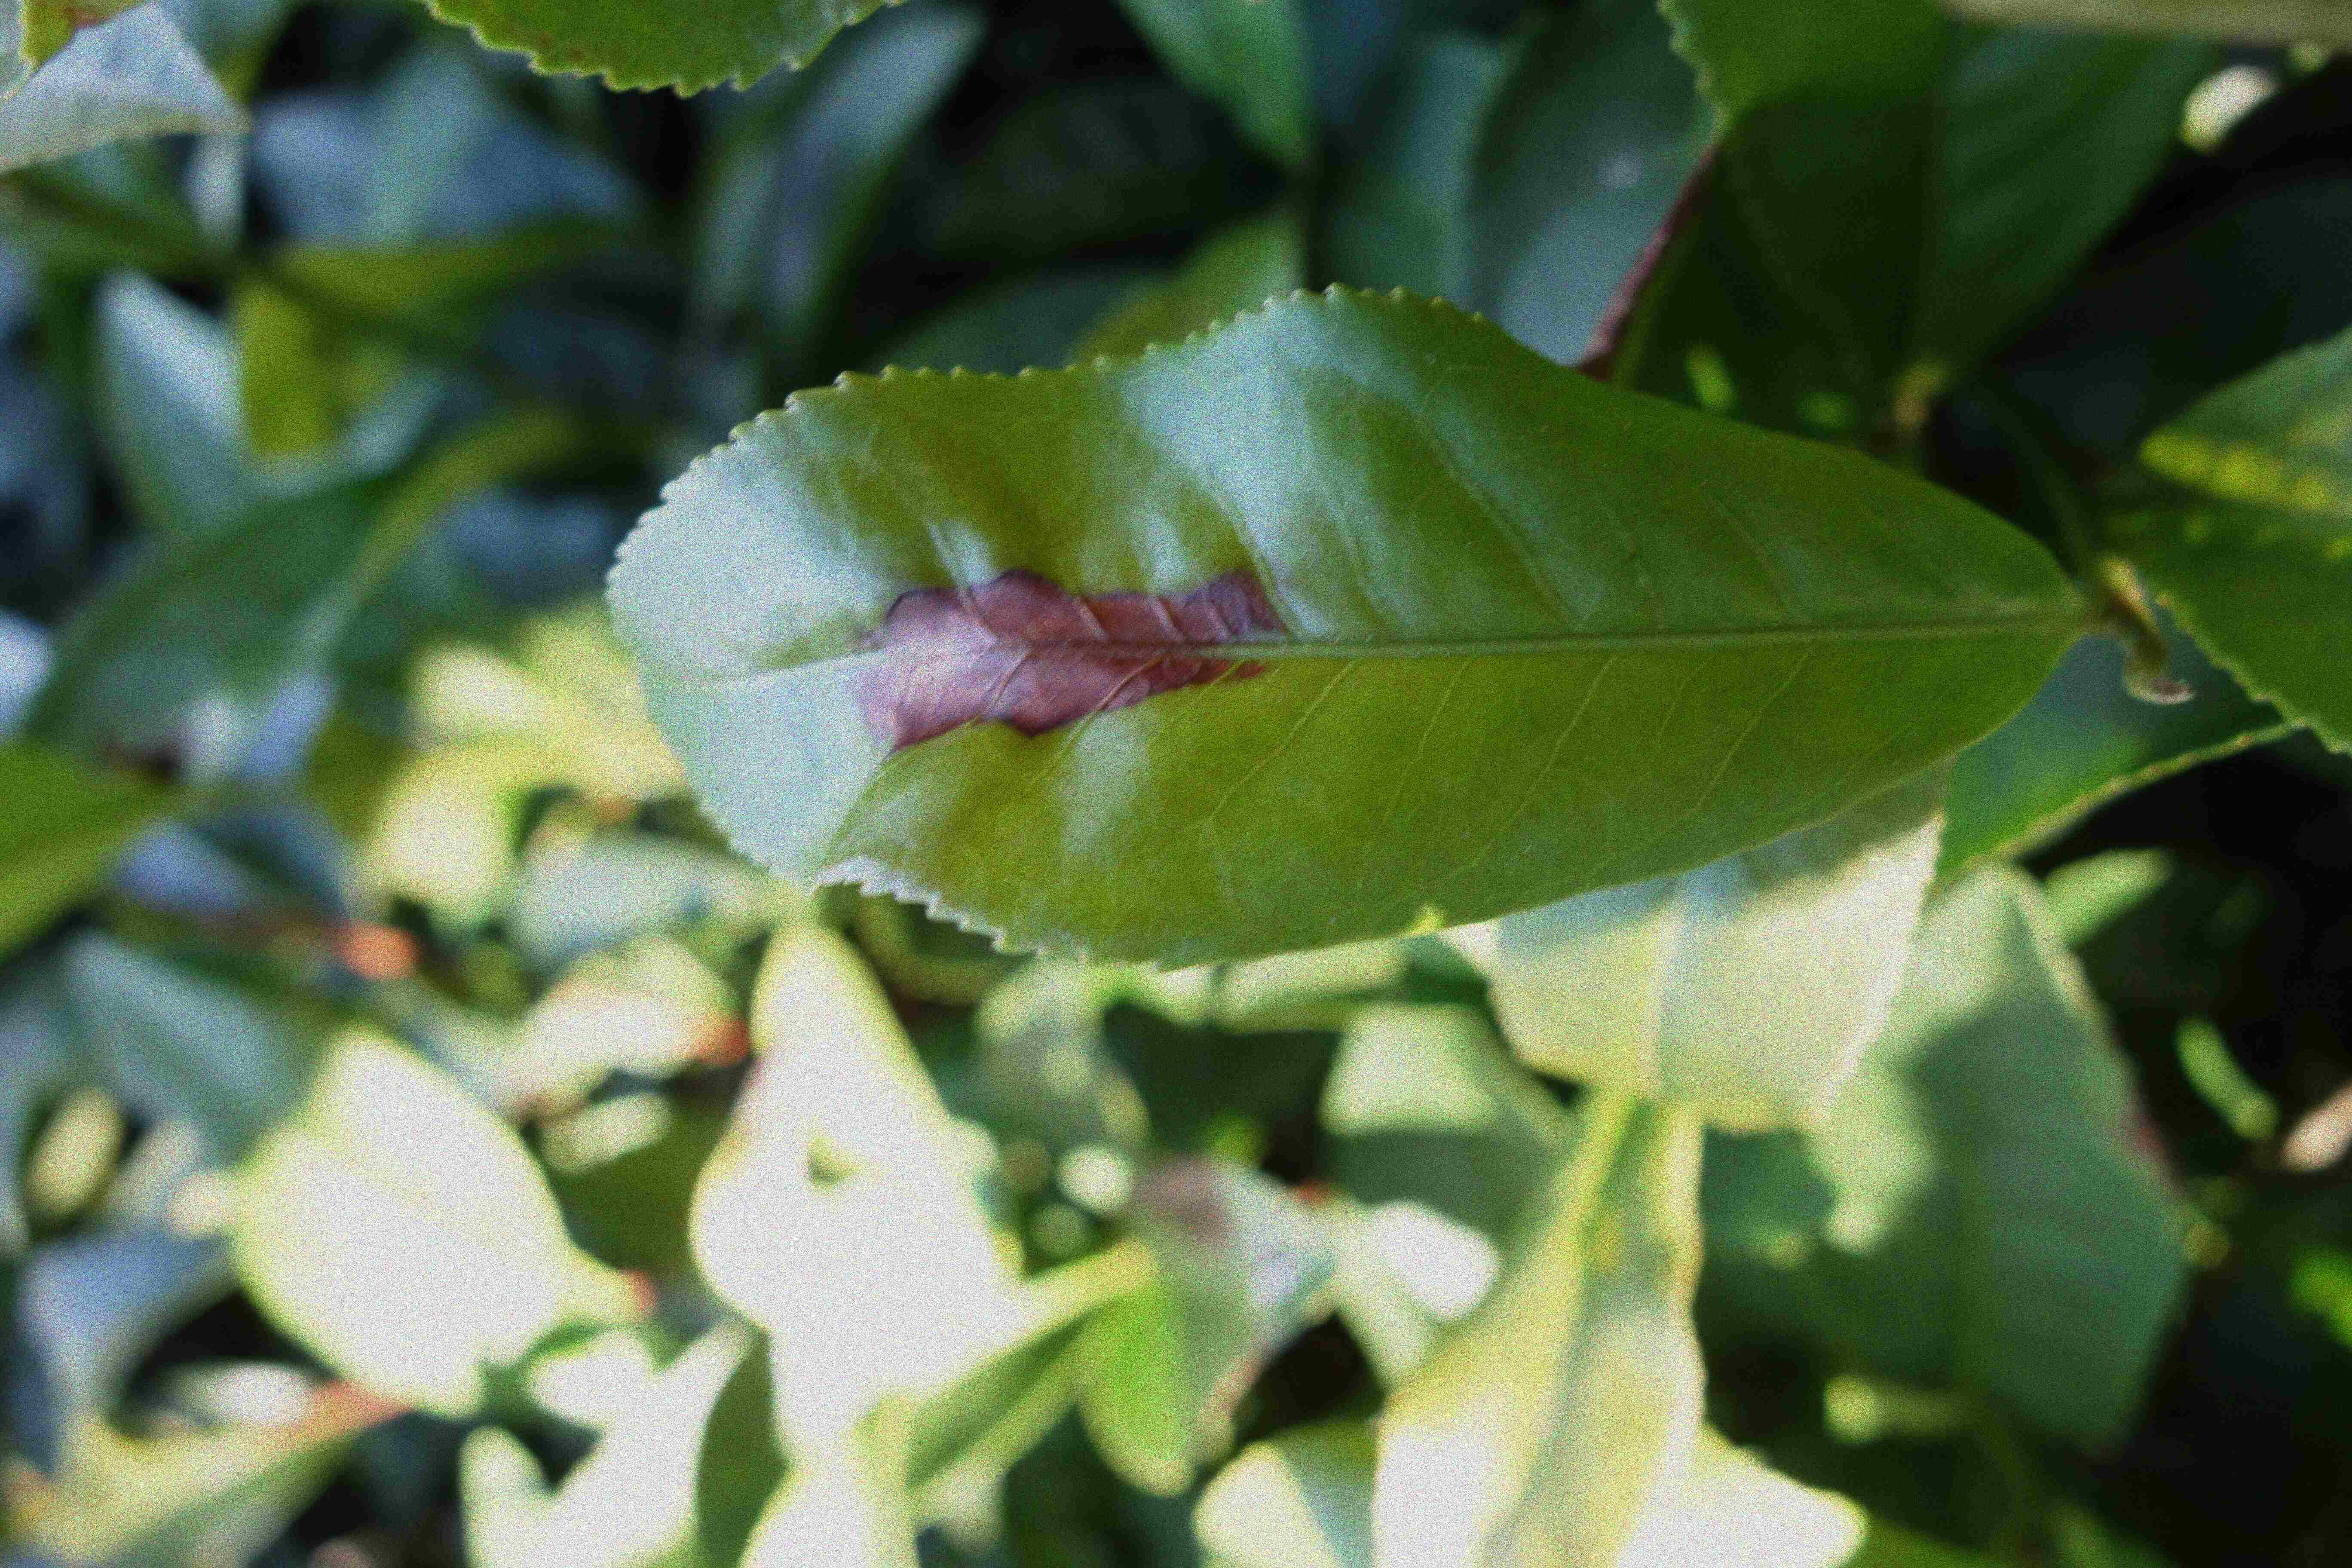tanju_high: (605, 280, 2091, 976)
